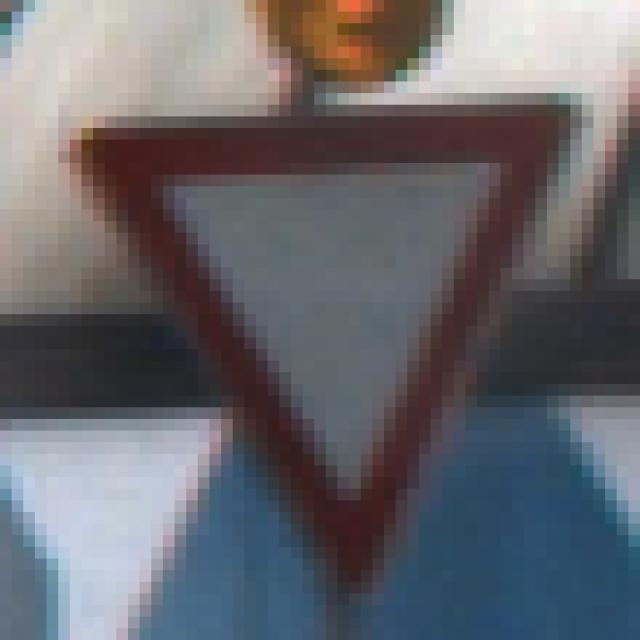Give Way: (71, 71, 571, 571)
